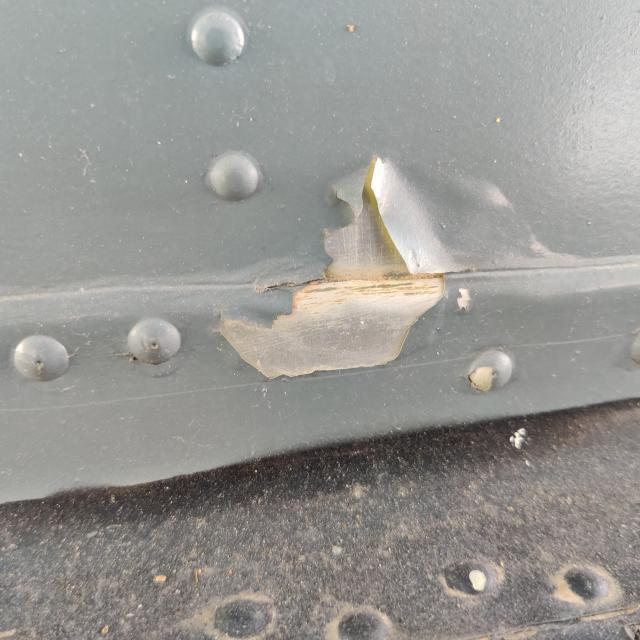Paint-off: (222, 157, 455, 380)
